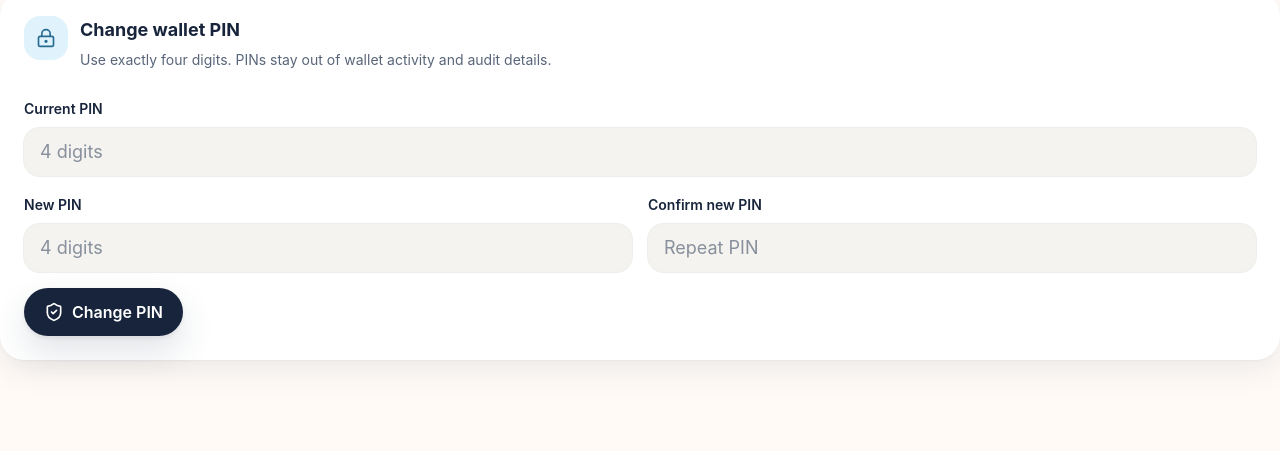
Test: WalletPinChangePanel › uses one PIN-change attempt and clears all plain-text PIN fields
The image size is (1280, 451).
Type "2468" into the password field labelled "Current PIN" at (640, 152), box [24,128,1256,176]
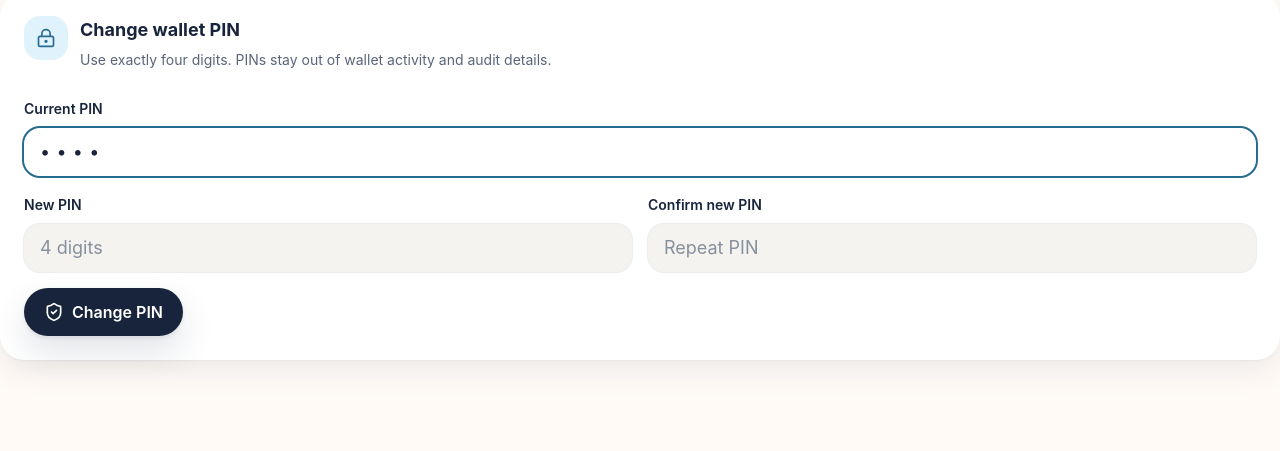
Type "1357" into the password field labelled "New PIN" at (328, 248), box [24,224,632,272]
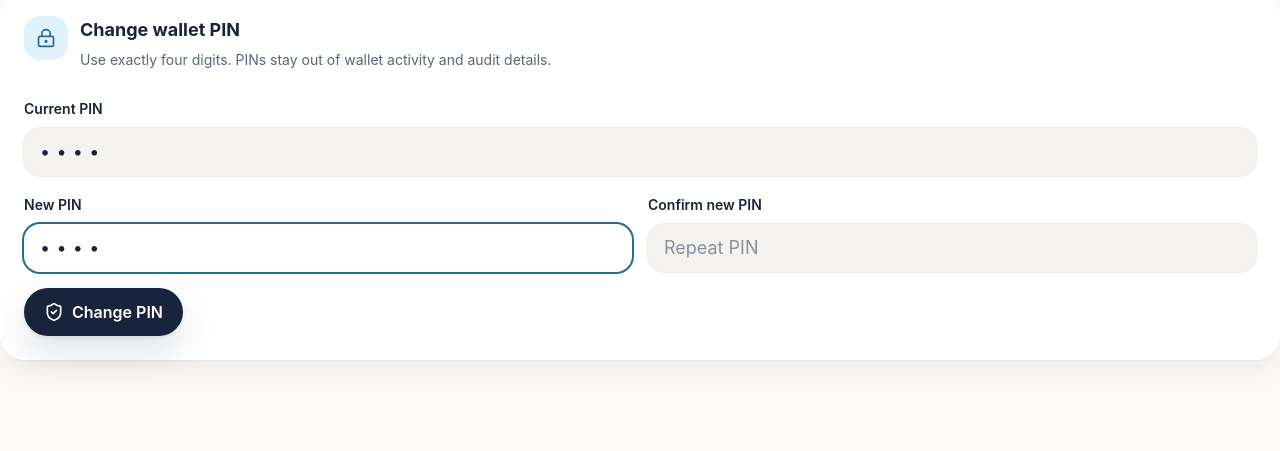
Type "1357" into the password field labelled "Confirm new PIN" at (952, 248), box [648,224,1256,272]
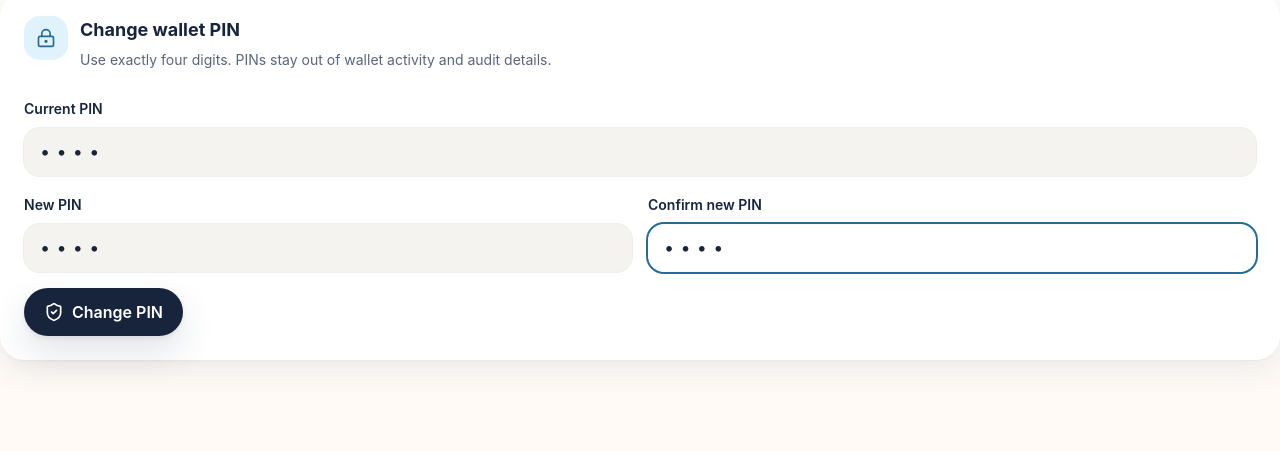
Click the button "Change PIN" at (104, 312), box [24,288,183,336]
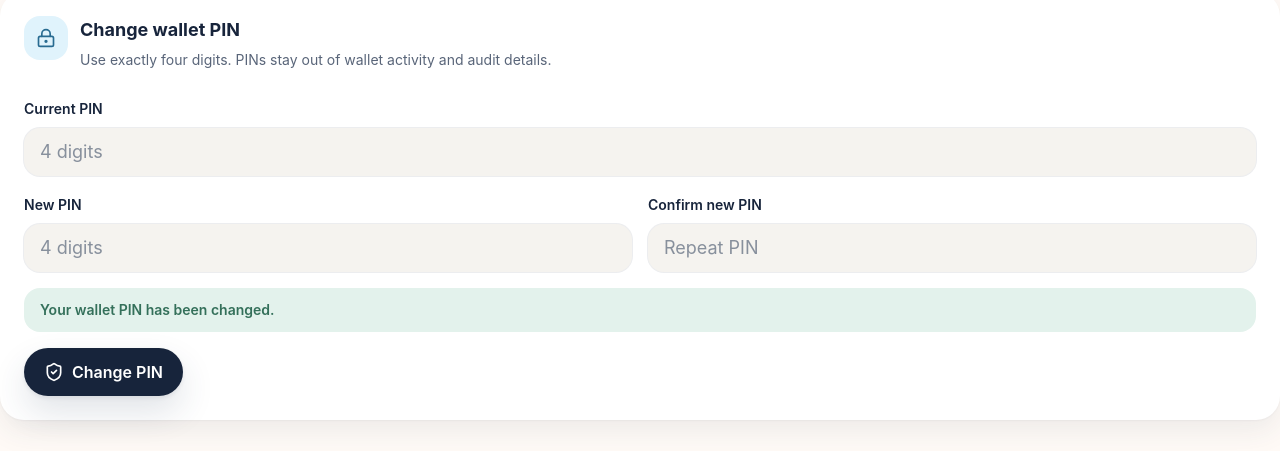
expect the text "Your wallet PIN has been changed." is shown: met, box [24,288,1256,332]
expect the password field labelled "Current PIN" is empty: met, box [24,128,1256,176]
expect the password field labelled "New PIN" is empty: met, box [24,224,632,272]
